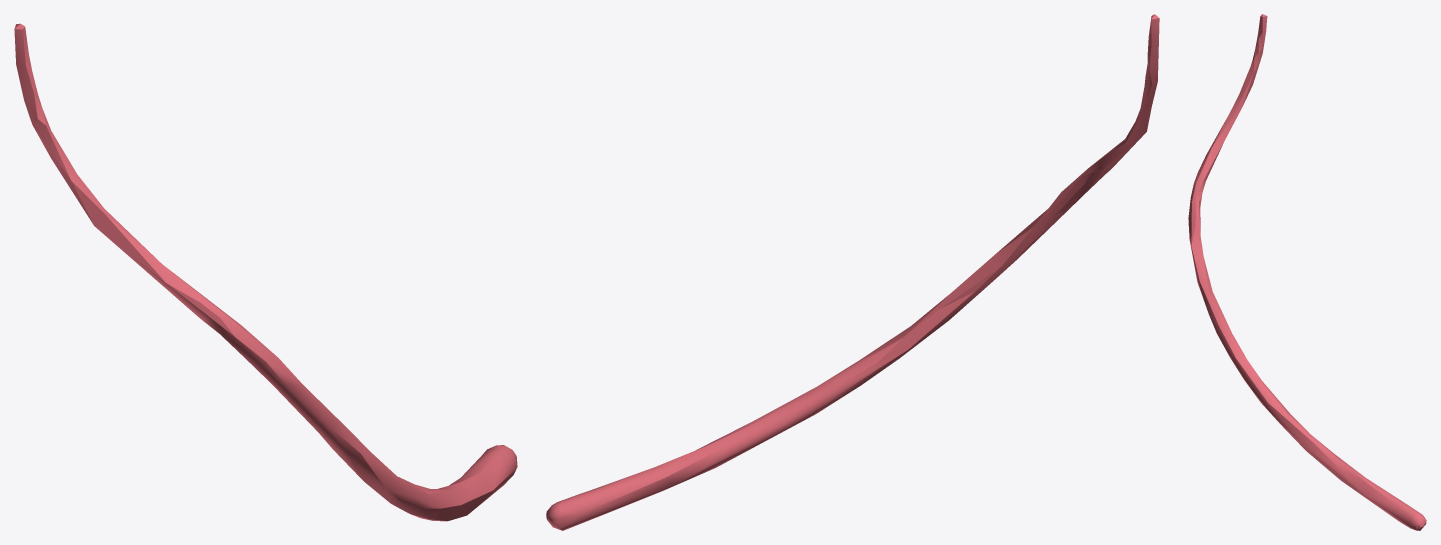
File: fma50519_fj1706.glb
3 views of the same model, side by side, from view 1: azimuth 30°, elevation 25°; view 2: azimuth 150°, elevation 25°; view 3: azimuth 270°, elevation 25° (orthographic). The views are drawn at different scales.
Parts seen in each view (by area): view 1: FMA50519_FJ1706; view 2: FMA50519_FJ1706; view 3: FMA50519_FJ1706.
Boxes of the visible parts, bbox=[...] form: FMA50519_FJ1706: bbox=[14, 23, 517, 521]; FMA50519_FJ1706: bbox=[546, 14, 1159, 530]; FMA50519_FJ1706: bbox=[1188, 14, 1426, 530].
Size of the model in its own units: 0.0192 by 0.0203 by 0.0121.
